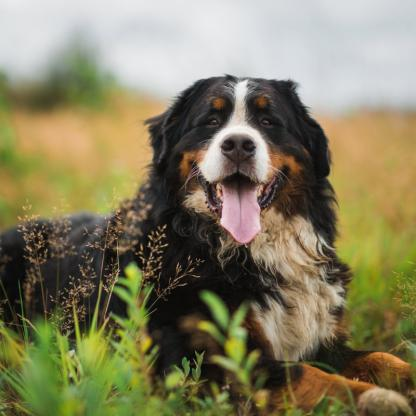dog: (1, 74, 416, 414)
